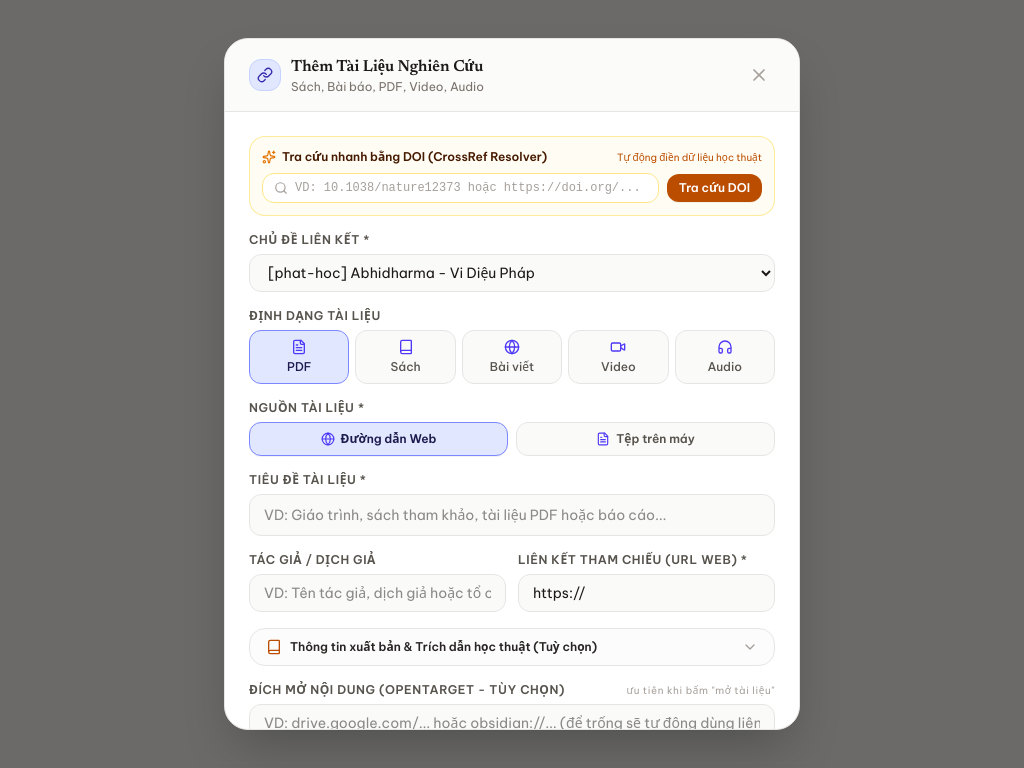
Test: ADR-012 Phase 1: ResourceFormModal Local File Picker UX Contract Tests › 1. In local mode, renders "Duyệt tệp trên máy" button and file input
Click the button "Tệp trên máy" at (646, 439), box [516,422,775,456]
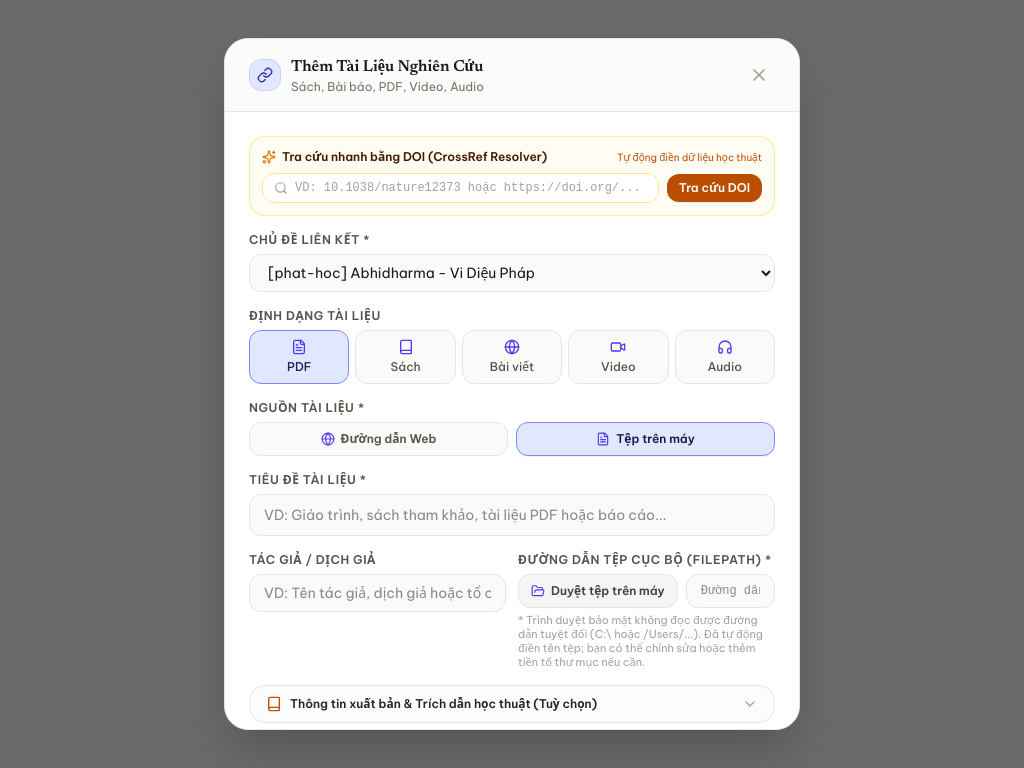
Result: the button "Duyệt tệp trên máy" is shown at [518,574,678,608]
Result: the element showing "Duyệt tệp trên máy" is shown at [518,574,775,608]
